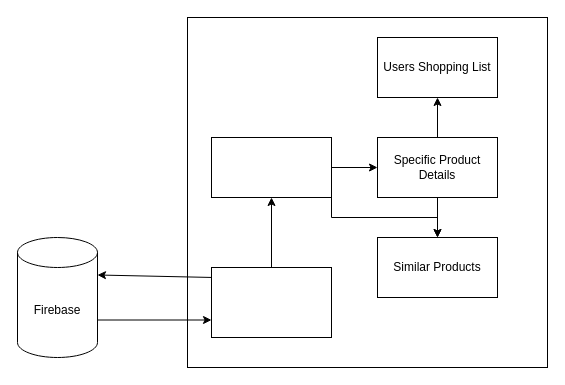
Some shapes in this 565 by 385 pixel diagram are drawn without their labels. The centre of each missing label's shape, as x and y in pixels:
"All Product List" goes at (271,167).
"App Load Up" goes at (271,302).
